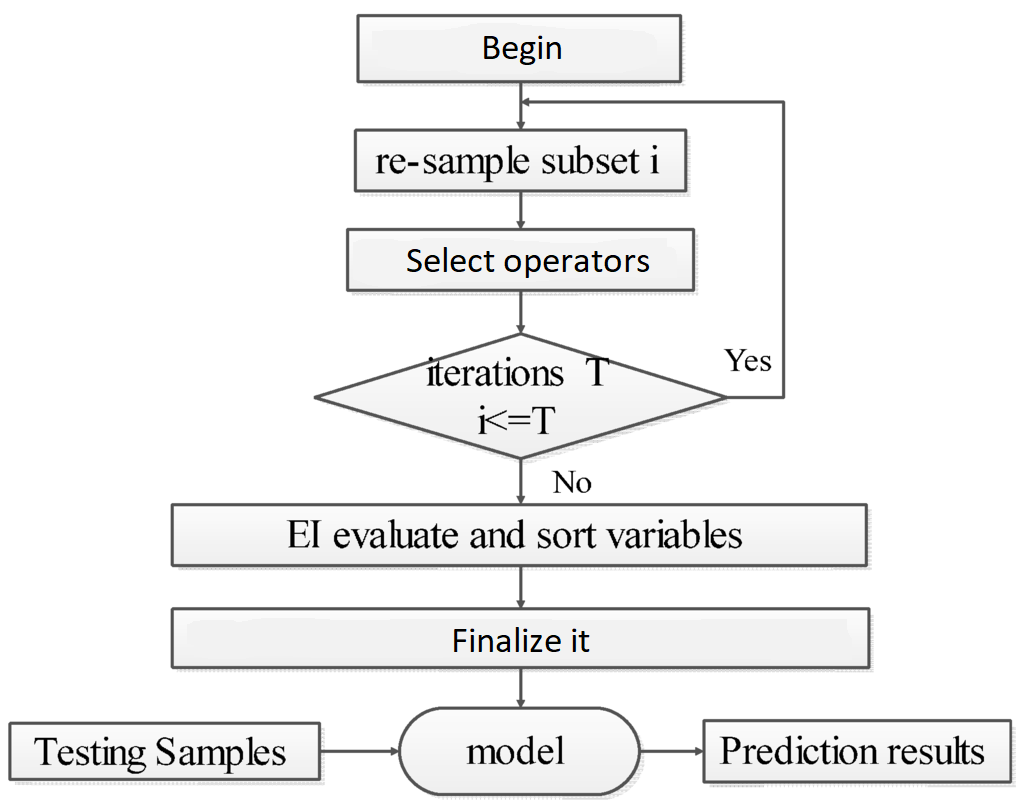arrow: (525, 95, 788, 400), (321, 743, 404, 760), (643, 745, 707, 760), (513, 459, 527, 504), (514, 570, 527, 614), (514, 670, 527, 714), (514, 293, 526, 332), (515, 87, 526, 129), (514, 193, 527, 227)
decision: (315, 333, 727, 458)
process: (168, 500, 870, 570), (168, 605, 875, 673), (353, 12, 686, 87), (352, 126, 692, 197), (345, 226, 697, 294), (699, 717, 1014, 787), (6, 717, 325, 784)
terminator: (398, 705, 642, 798)
text: (286, 517, 746, 553), (421, 354, 612, 437), (373, 143, 667, 179), (720, 733, 988, 771), (31, 734, 287, 773), (404, 244, 651, 277), (451, 620, 590, 654), (467, 736, 570, 770), (480, 34, 562, 62), (724, 347, 773, 376), (551, 467, 595, 497)
